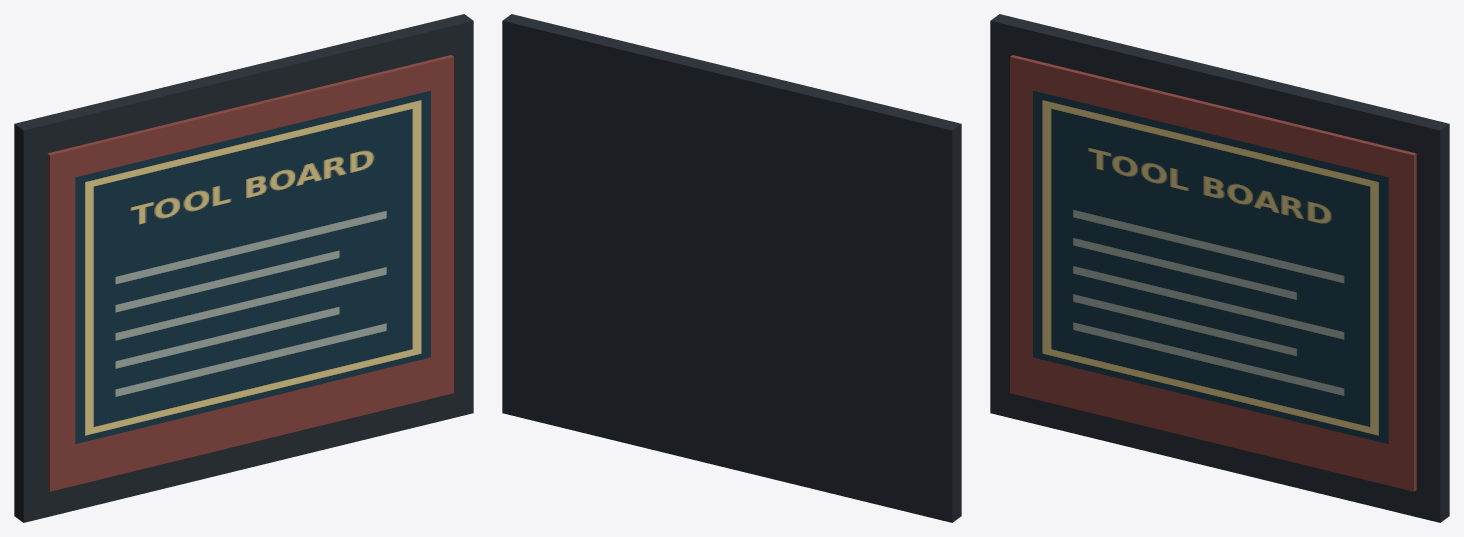
File: tool_board.glb
The picture shows the model from 3 angles, left to right: view 1: azimuth 30°, elevation 25°; view 2: azimuth 150°, elevation 25°; view 3: azimuth 330°, elevation 25°; orthographic projection.
Visible parts, largest first — view 1: printed_surface, body; view 2: body; view 3: printed_surface, body.
Part boxes in pixels (left/top/right/bottom): printed_surface: left=75, top=90, right=430, bottom=443; body: left=14, top=14, right=473, bottom=522; body: left=502, top=14, right=961, bottom=522; printed_surface: left=1033, top=90, right=1388, bottom=443; body: left=990, top=14, right=1449, bottom=522.
Size of the model in its own units: 1.18 by 0.98 by 0.0628.
2 materials, 2 textured.
